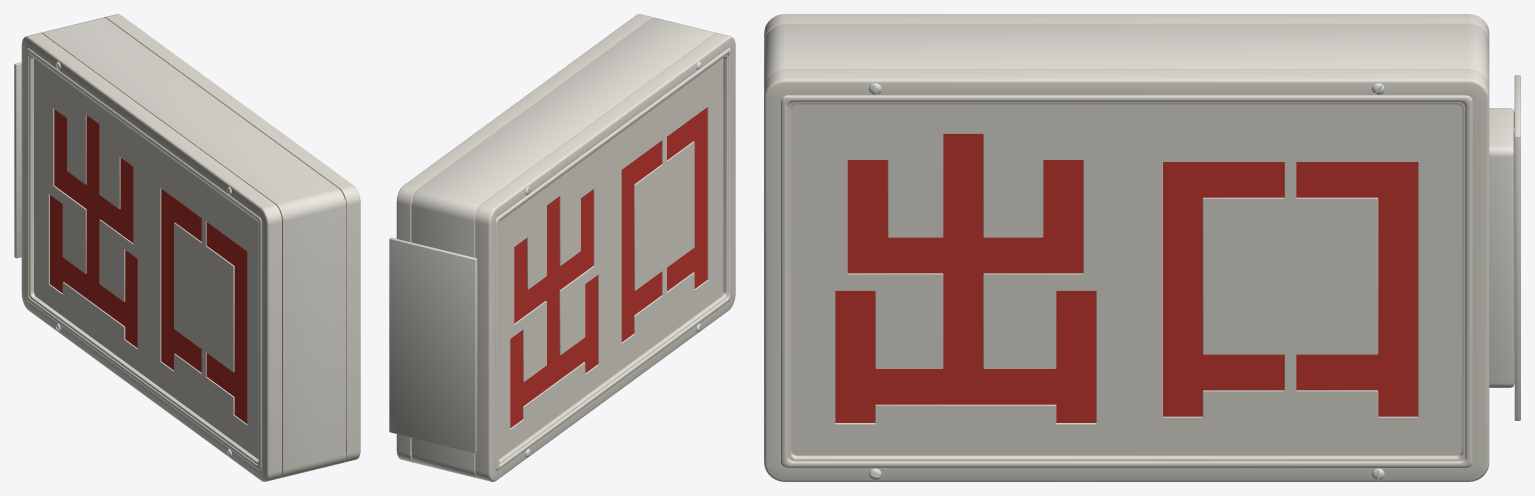
File: Kit_ExitSign_End.fbx
3 renders of one model, left to right at view 1: azimuth 30°, elevation 25°; view 2: azimuth 150°, elevation 25°; view 3: azimuth 270°, elevation 25°, orthographic. The views are drawn at different scales.
Parts seen in each view (by area): view 1: Kit_ExitSign_End_LOD0; view 2: Kit_ExitSign_End_LOD0; view 3: Kit_ExitSign_End_LOD0.
Part boxes in pixels (x1,y1,x2,y2): Kit_ExitSign_End_LOD0: [14, 14, 360, 481]; Kit_ExitSign_End_LOD0: [389, 14, 735, 481]; Kit_ExitSign_End_LOD0: [764, 14, 1520, 481].
Size of what is drawn, in the model's own units: 0.0789 by 0.212 by 0.361.
